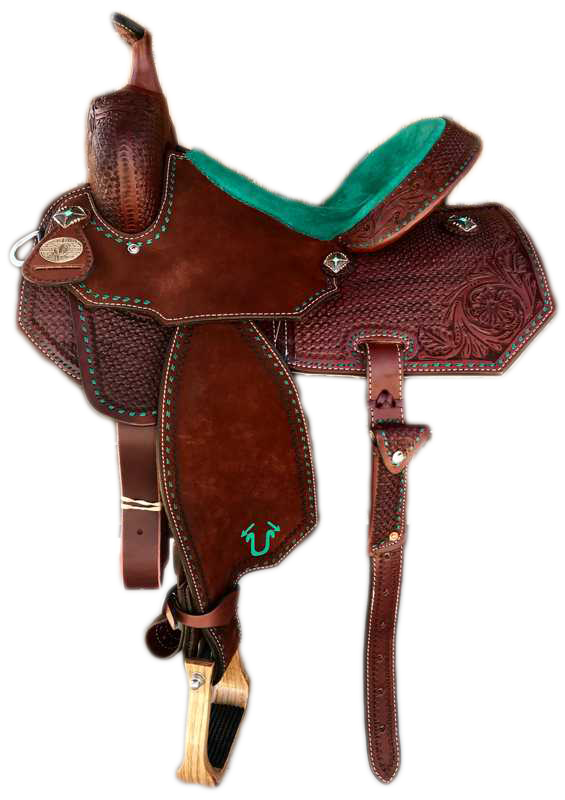saddle: (61, 32, 507, 662)
